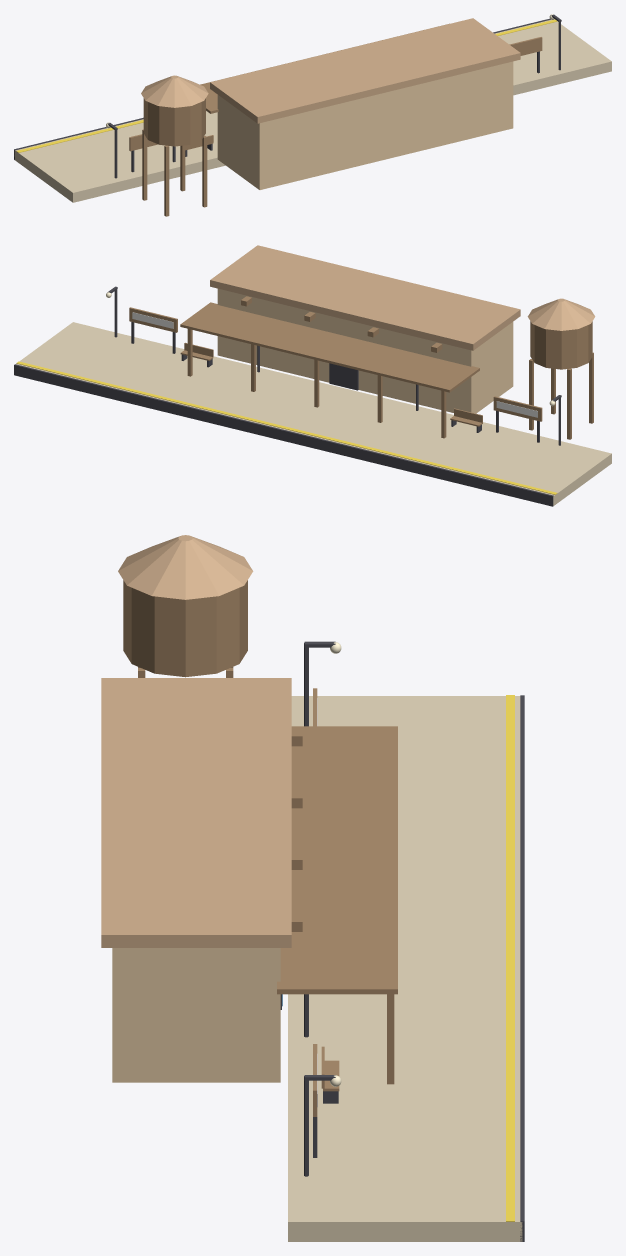
Rendered from Station_desert.fbx.
3 renders of one model, top to bottom at view 1: azimuth 30°, elevation 25°; view 2: azimuth 150°, elevation 25°; view 3: azimuth 270°, elevation 25°, orthographic. The views are drawn at different scales.
Parts seen in each view (by area): view 1: Station_desert; view 2: Station_desert; view 3: Station_desert.
Boxes of the visible parts, x1,y1,x2,y2 form: Station_desert: (14,14,611,216); Station_desert: (14,245,611,506); Station_desert: (101,535,524,1241).
Size of the model in its own units: 34 by 7.6 by 11.56.
